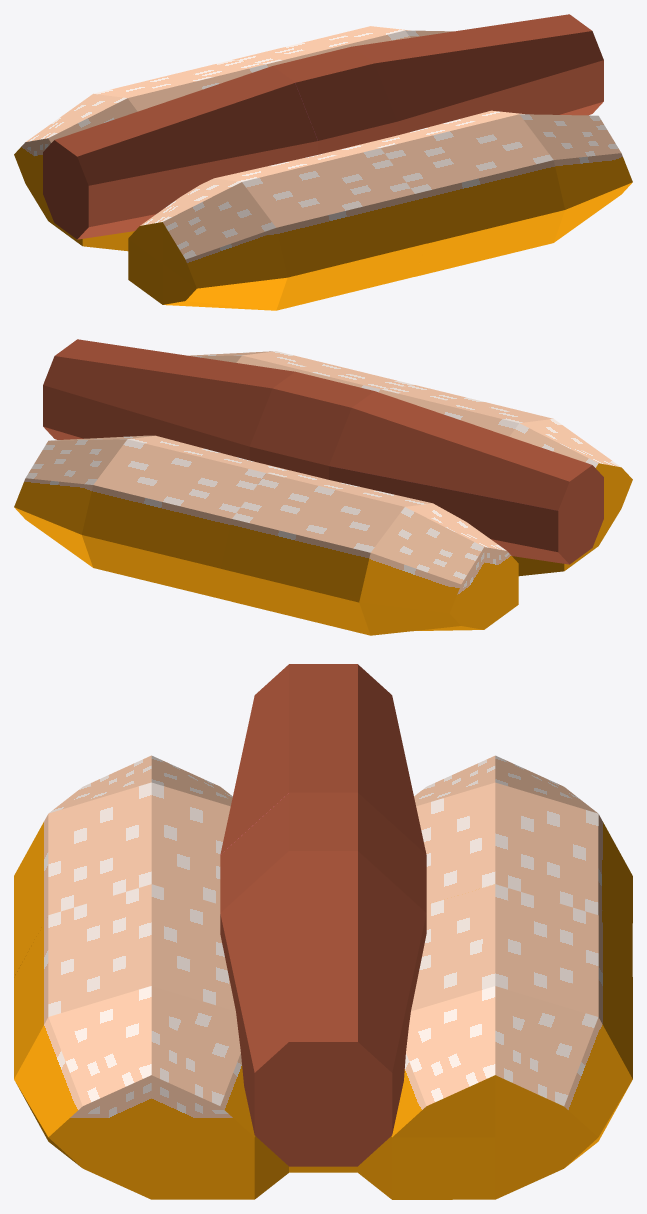
The model's file is hotdog.gltf.
The picture shows the model from 3 angles, top to bottom: view 1: azimuth 30°, elevation 25°; view 2: azimuth 150°, elevation 25°; view 3: azimuth 270°, elevation 25°; orthographic projection. The views are drawn at different scales.
Visible parts, largest first — view 1: hotdog; view 2: hotdog; view 3: hotdog.
Boxes of the visible parts, x1=… form: hotdog: x1=14, y1=14, x2=632, y2=310; hotdog: x1=14, y1=339, x2=632, y2=635; hotdog: x1=14, y1=664, x2=632, y2=1199.
Size of the model in its own units: 6.5 by 2 by 4.5.
Materials: 1 (1 with a texture image).
